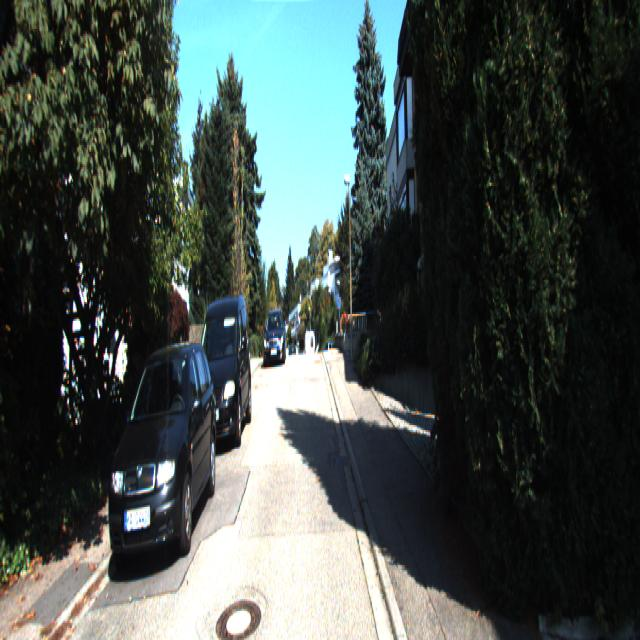Car: (107, 338, 218, 575), (263, 308, 287, 367)
Van: (190, 288, 253, 453)
